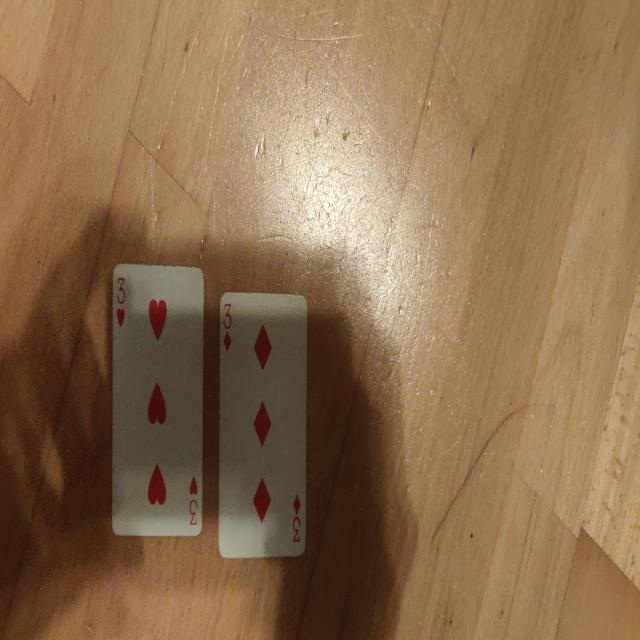Diamond: (253, 401, 272, 446), (254, 325, 272, 370), (253, 478, 271, 522), (223, 332, 232, 351), (293, 495, 301, 515)
Heart: (148, 382, 166, 425), (148, 300, 166, 340), (148, 464, 166, 504), (117, 308, 125, 328), (190, 476, 198, 496)
